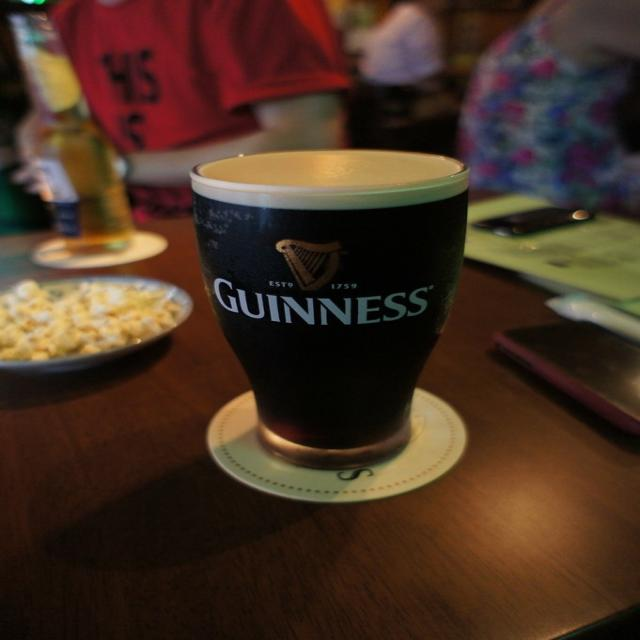bottle: (5, 12, 148, 258)
food: (0, 267, 178, 387)
guiness_full_glass: (188, 146, 473, 470)
phone: (487, 316, 640, 456)
